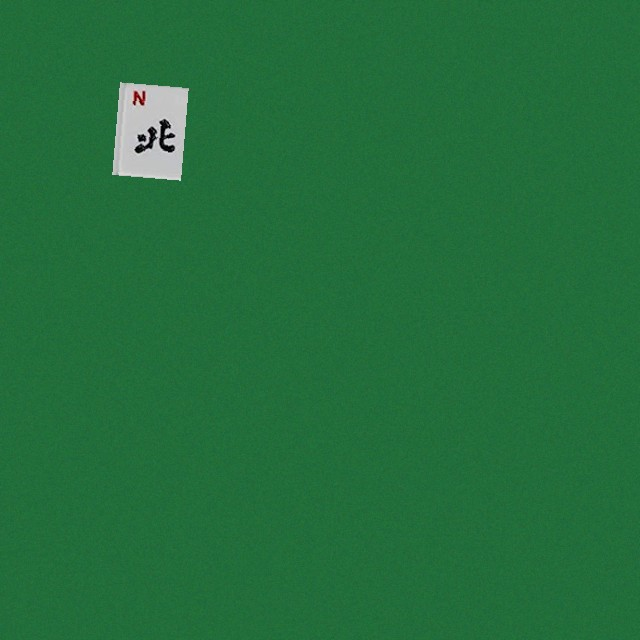tile: (112, 82, 181, 175)
